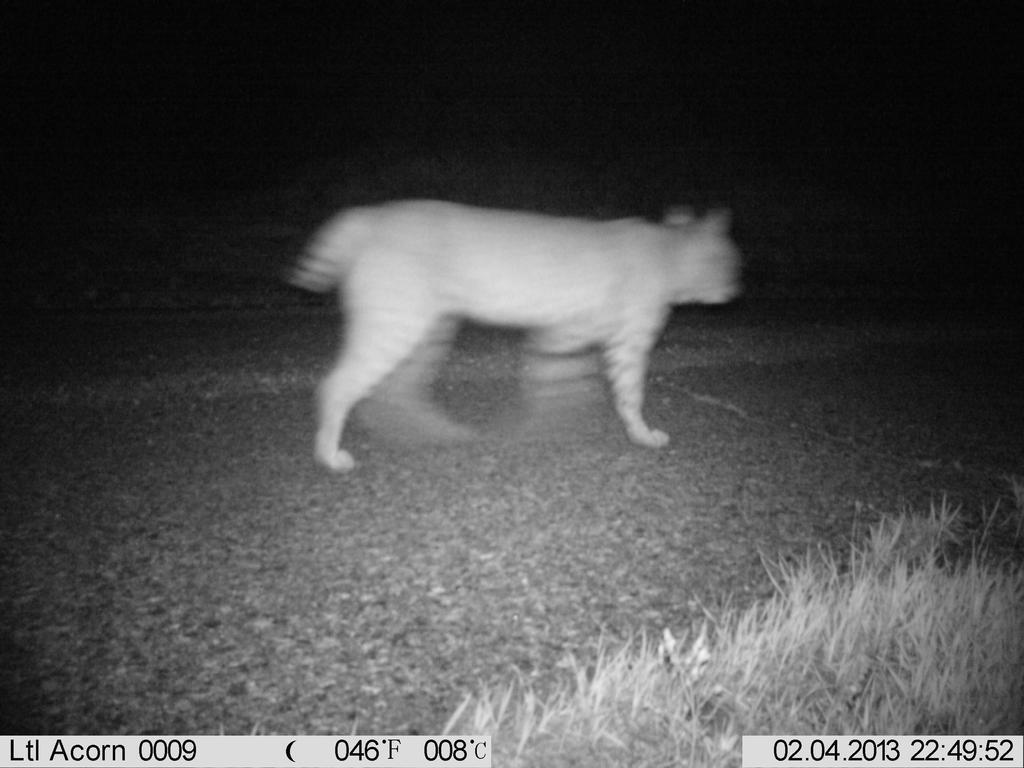bobcat: (268, 177, 757, 483)
